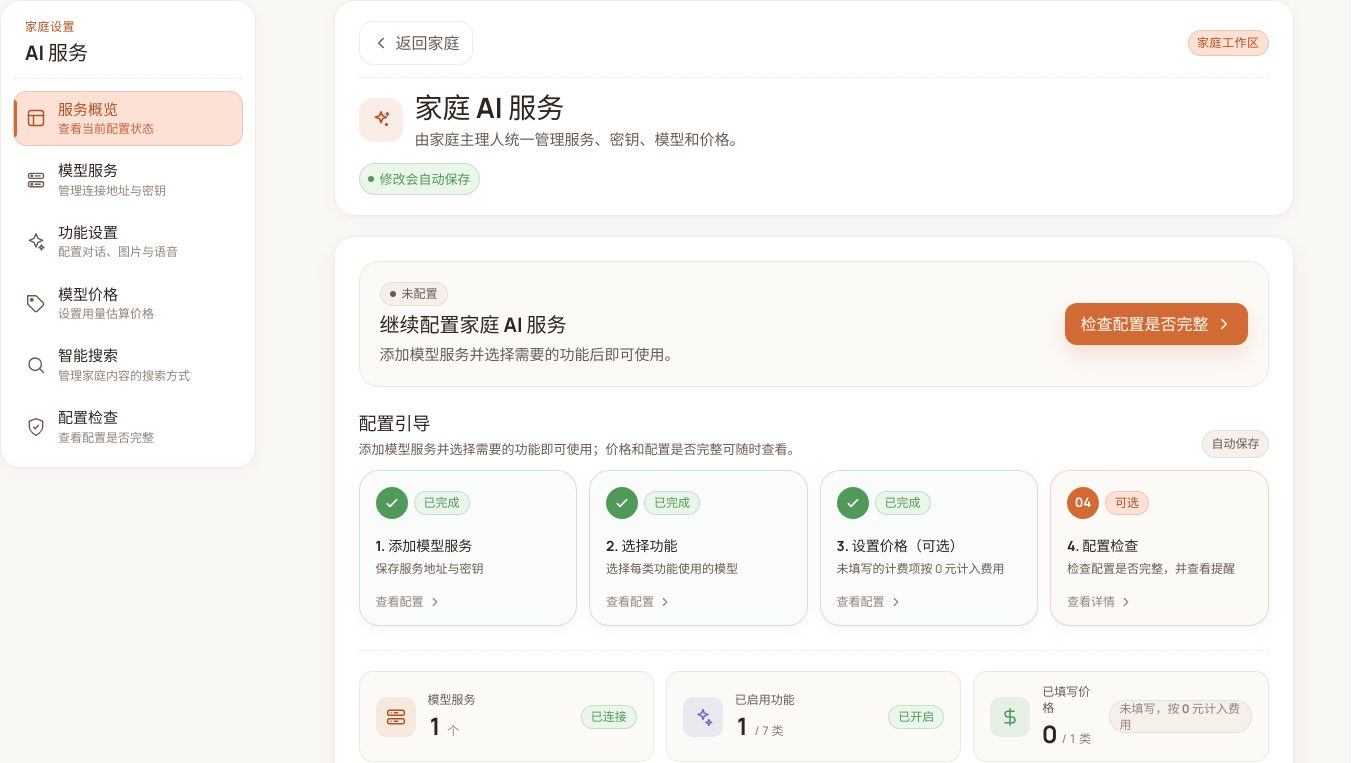
Test: FamilyModelSettingsWorkspace › automatically saves capability changes without a publish action
The image size is (1366, 763).
Click the button "功能设置 配置对话、图片与语音" at (128, 242), box [13, 214, 243, 270]
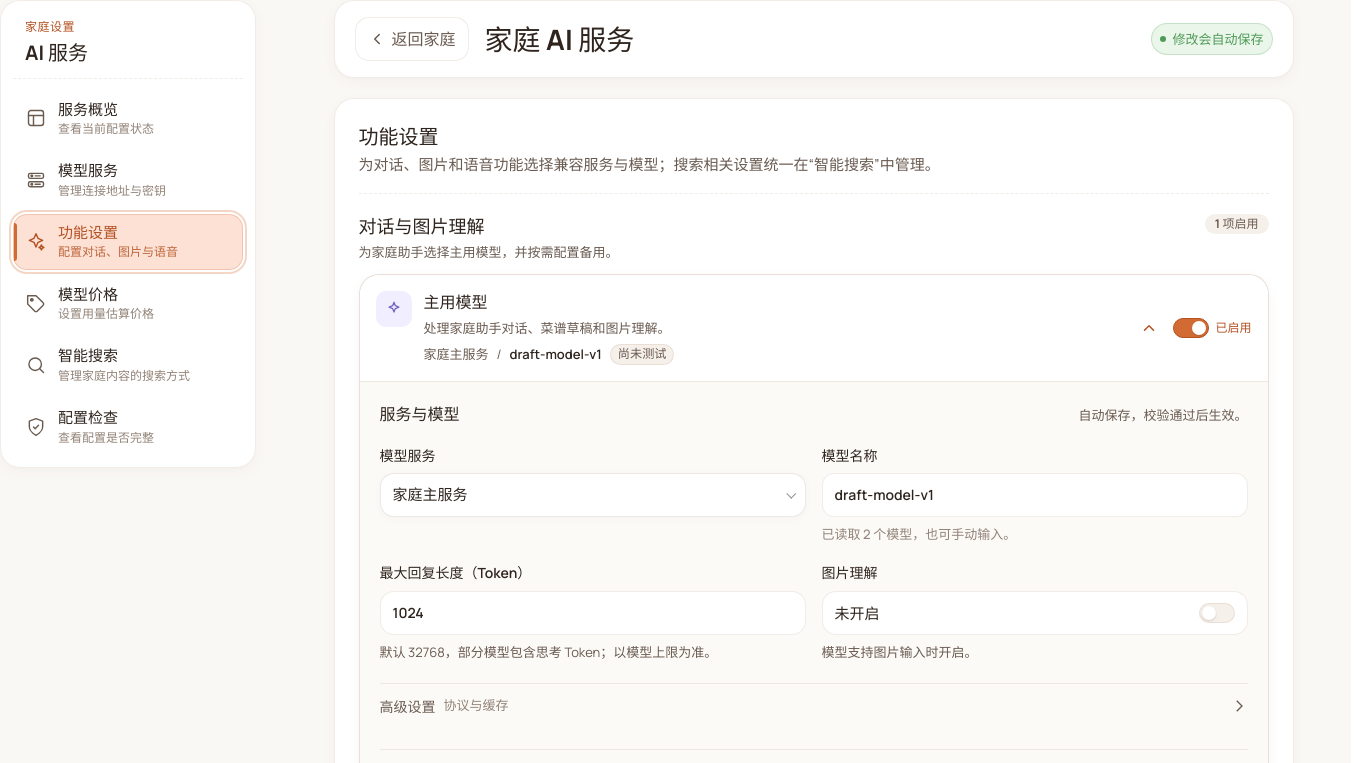
Clear the dropdown named "模型名称" at (1034, 495), box [822, 473, 1248, 517]
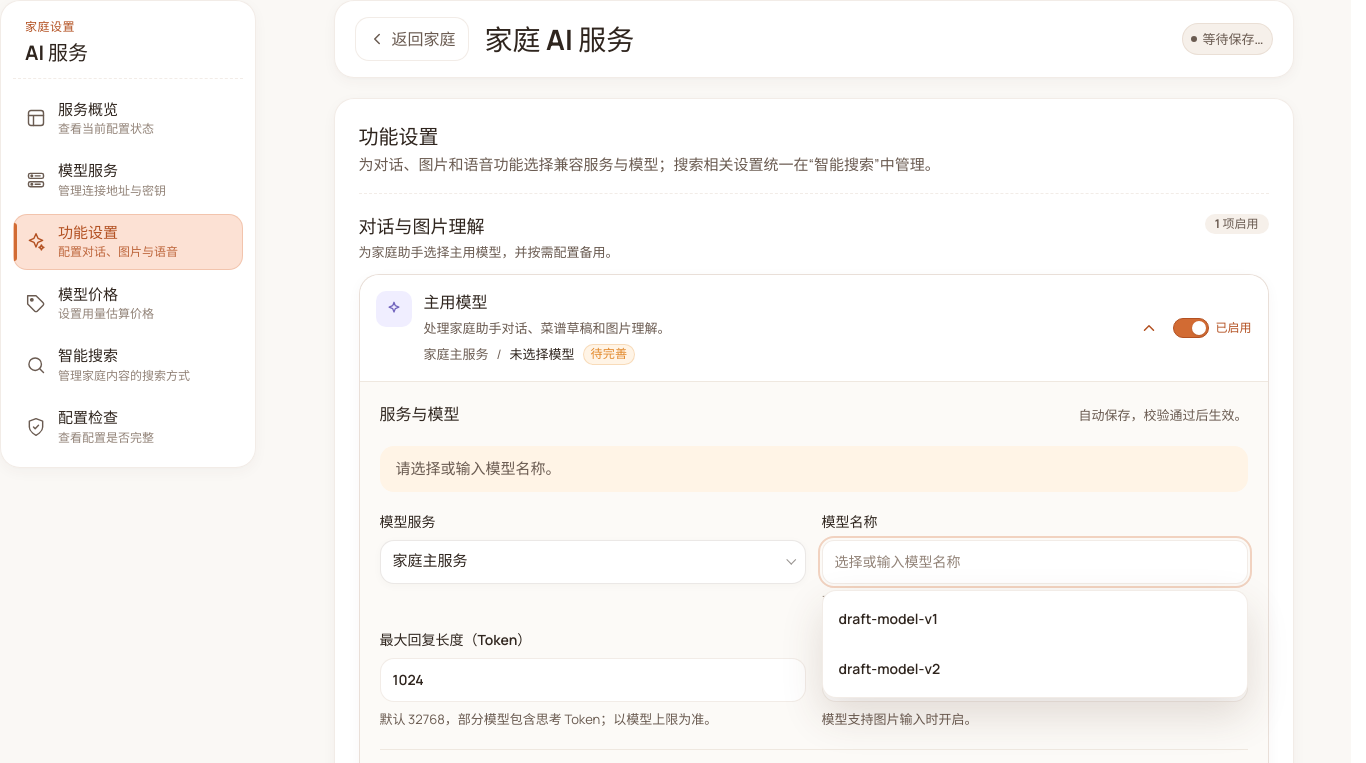
Type "draft-model-v2" into the dropdown labelled "模型名称" at (1034, 562), box [822, 540, 1248, 584]
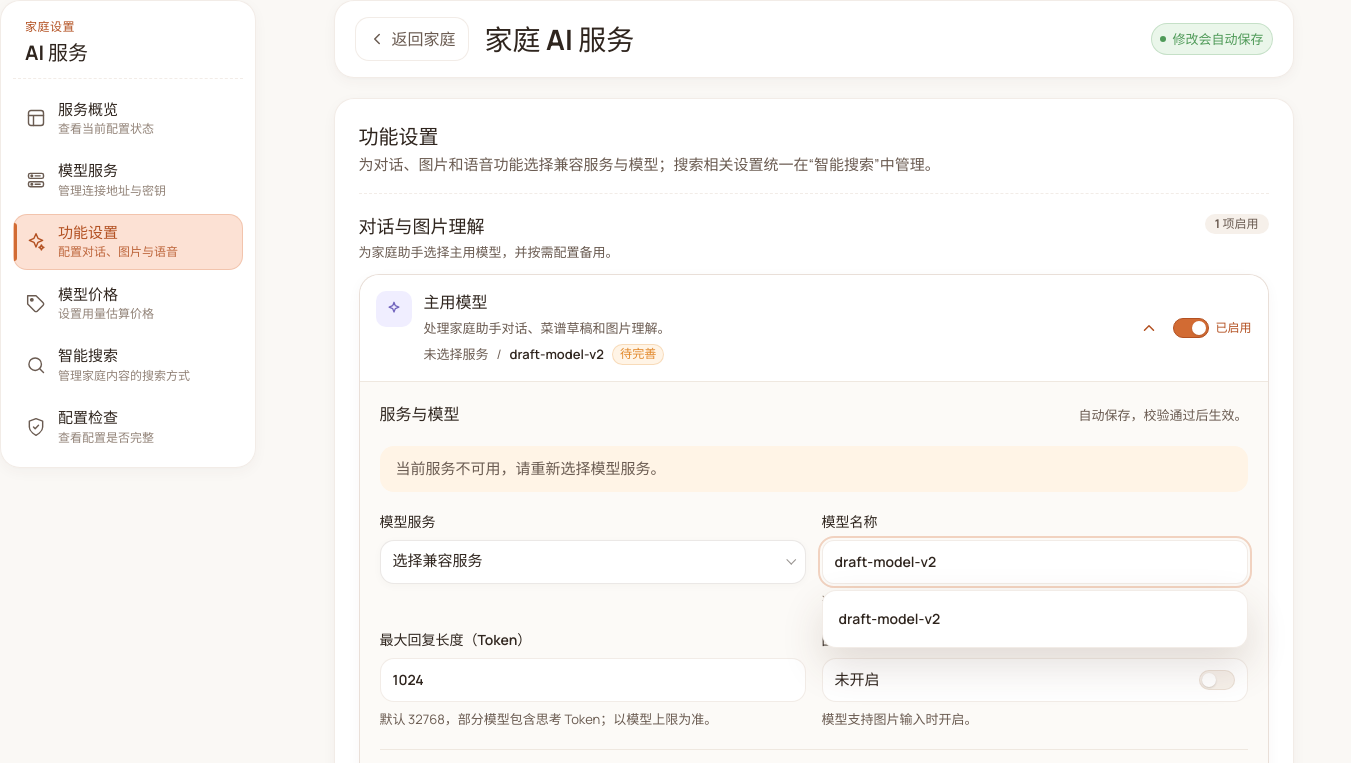
expect the 1st text "draft-model-v2" is shown: met, box [510, 345, 604, 364]
